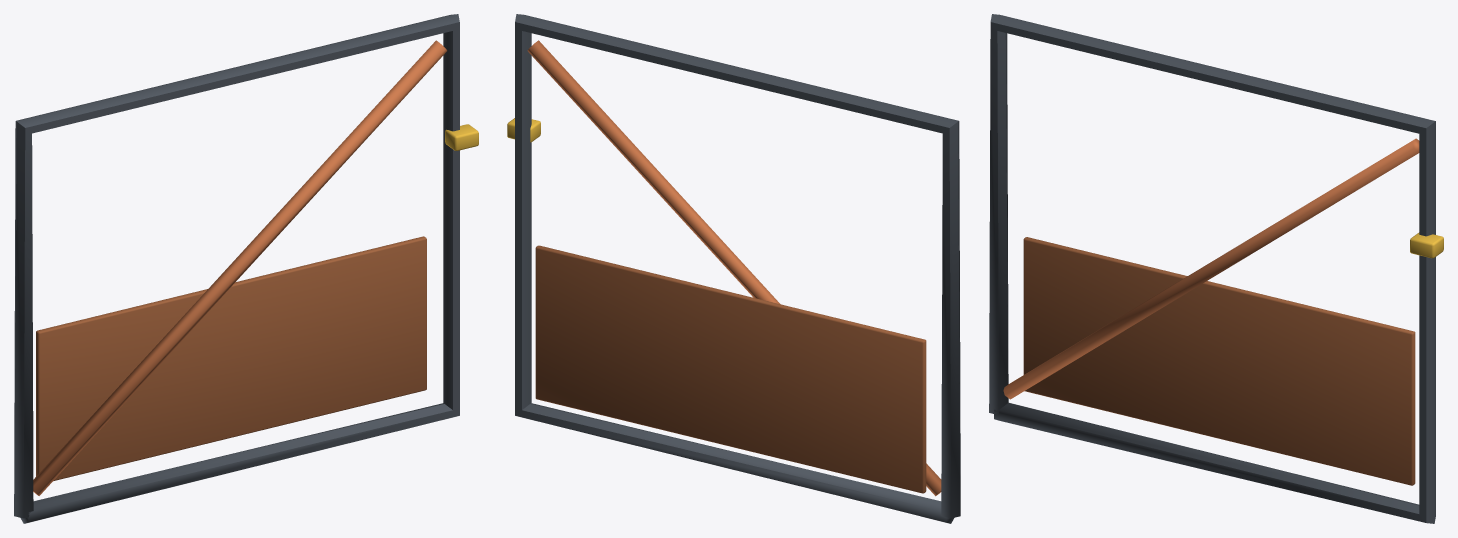
The model's file is fence-pipe-gate.glb.
3 views of the same model, side by side, from view 1: azimuth 30°, elevation 25°; view 2: azimuth 150°, elevation 25°; view 3: azimuth 330°, elevation 25° (orthographic).
Visible parts, largest first — view 1: gate; view 2: gate; view 3: gate.
Part boxes in pixels (x1,y1,x2,y2): gate: (14, 14, 478, 523); gate: (507, 14, 960, 523); gate: (989, 14, 1443, 523).
Bounding box in the file's own units: 0.935 × 0.7941 × 0.068.
